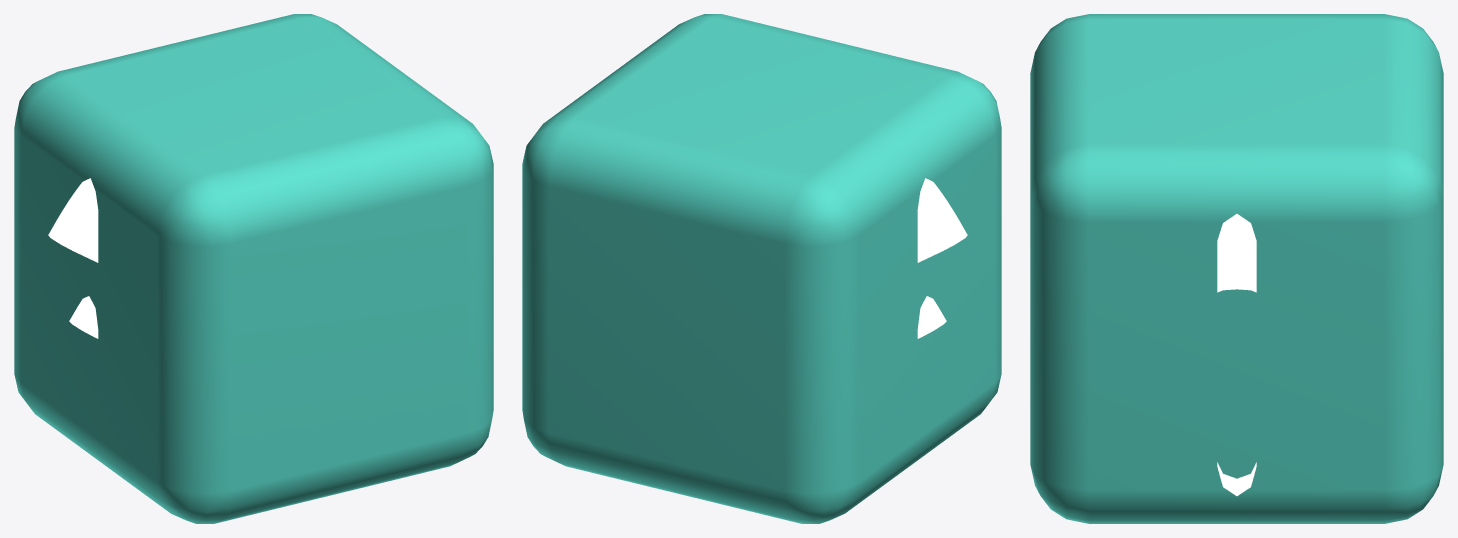
File: RiverBlock.fbx
3 renders of one model, left to right at view 1: azimuth 30°, elevation 25°; view 2: azimuth 150°, elevation 25°; view 3: azimuth 270°, elevation 25°, orthographic. The views are drawn at different scales.
Visible parts, largest first — view 1: Block; view 2: Block; view 3: Block.
Part boxes in pixels (x1=…): Block: x1=14, y1=14, x2=493, y2=523; Block: x1=522, y1=14, x2=1001, y2=523; Block: x1=1030, y1=14, x2=1443, y2=523.
Bounding box in the file's own units: 0.5179 × 0.42 × 0.42.
